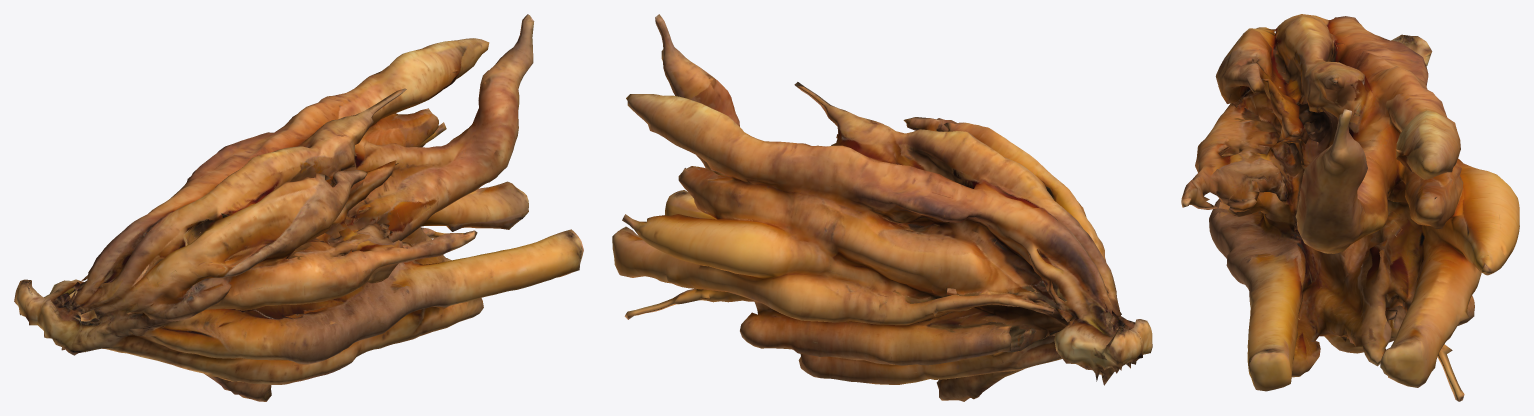
File: shatavari.glb
3 renders of one model, left to right at view 1: azimuth 30°, elevation 25°; view 2: azimuth 150°, elevation 25°; view 3: azimuth 270°, elevation 25°, orthographic. The views are drawn at different scales.
Size of the model in its own units: 1.99 by 1.18 by 0.9769.
1 material, 1 textured.
